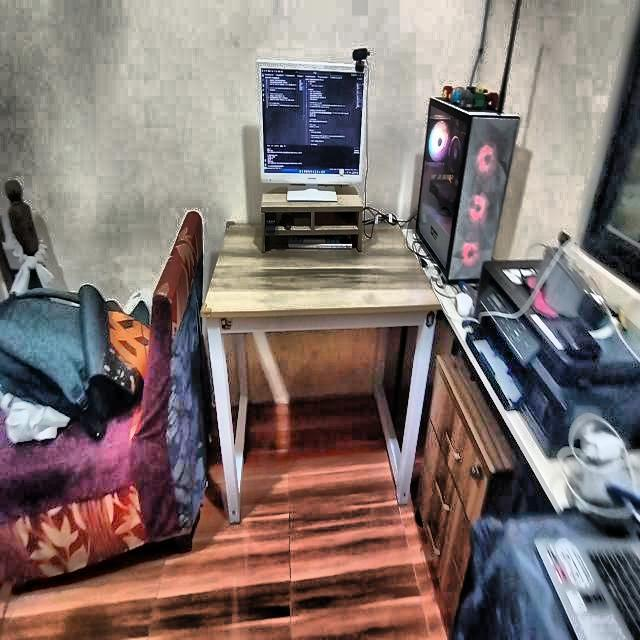mesa: (202, 213, 448, 522)
